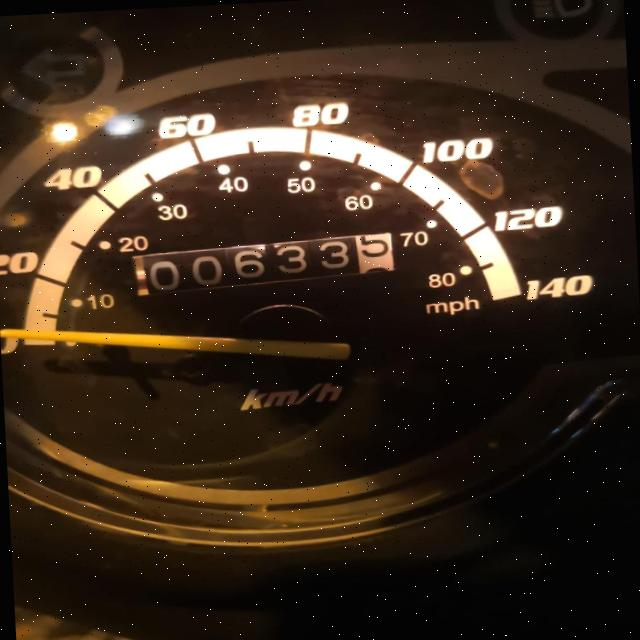odometer: (125, 230, 398, 299)
